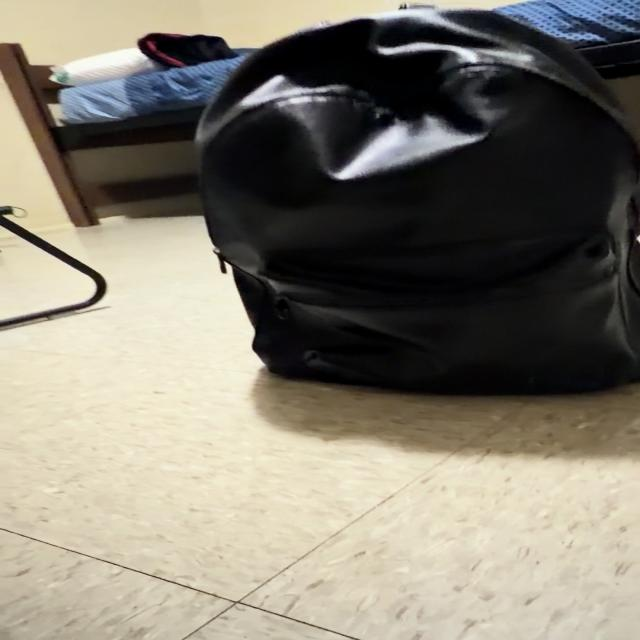backpack: (198, 9, 640, 393), (636, 268, 636, 270), (636, 257, 636, 261)
